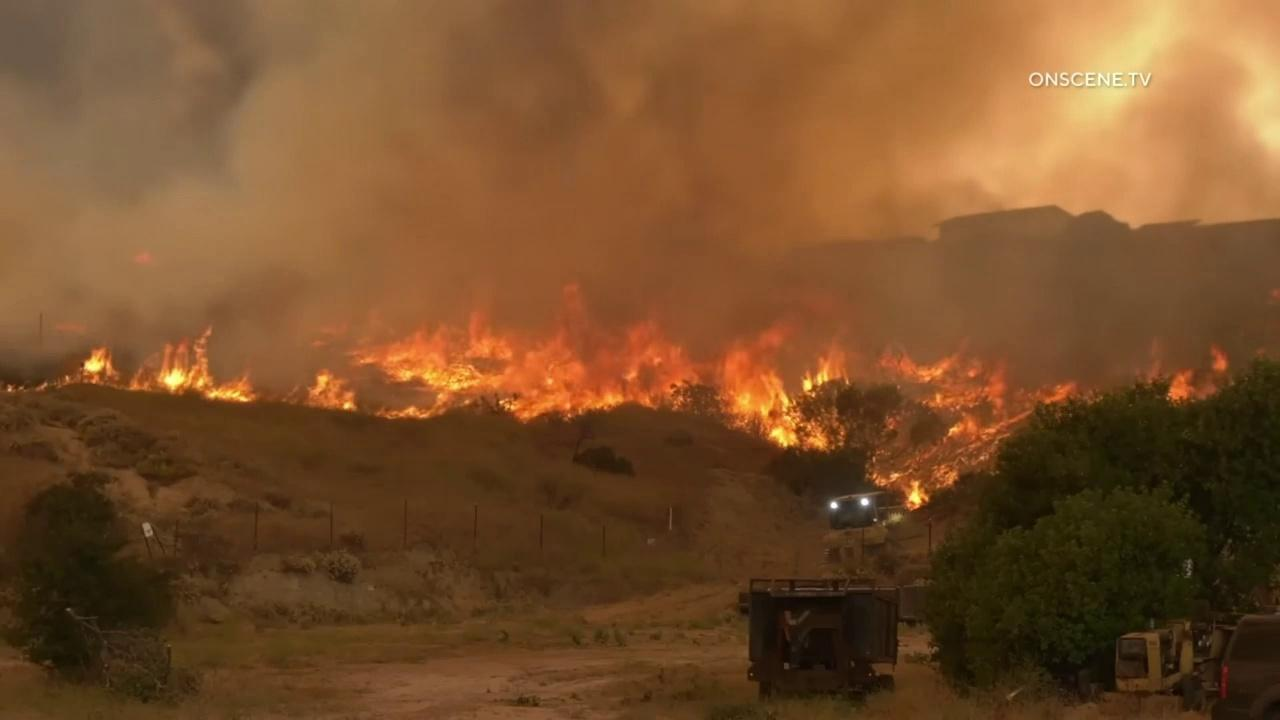fire: (0, 275, 853, 456), (864, 339, 1100, 512), (1142, 334, 1240, 406), (130, 249, 154, 265), (1266, 285, 1280, 300)
smoke: (0, 0, 1280, 386)
